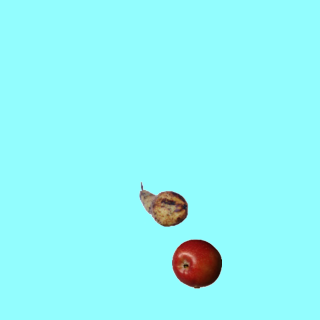Apple Braeburn: (171, 238, 221, 288)
Pear Abate: (138, 179, 188, 229)
